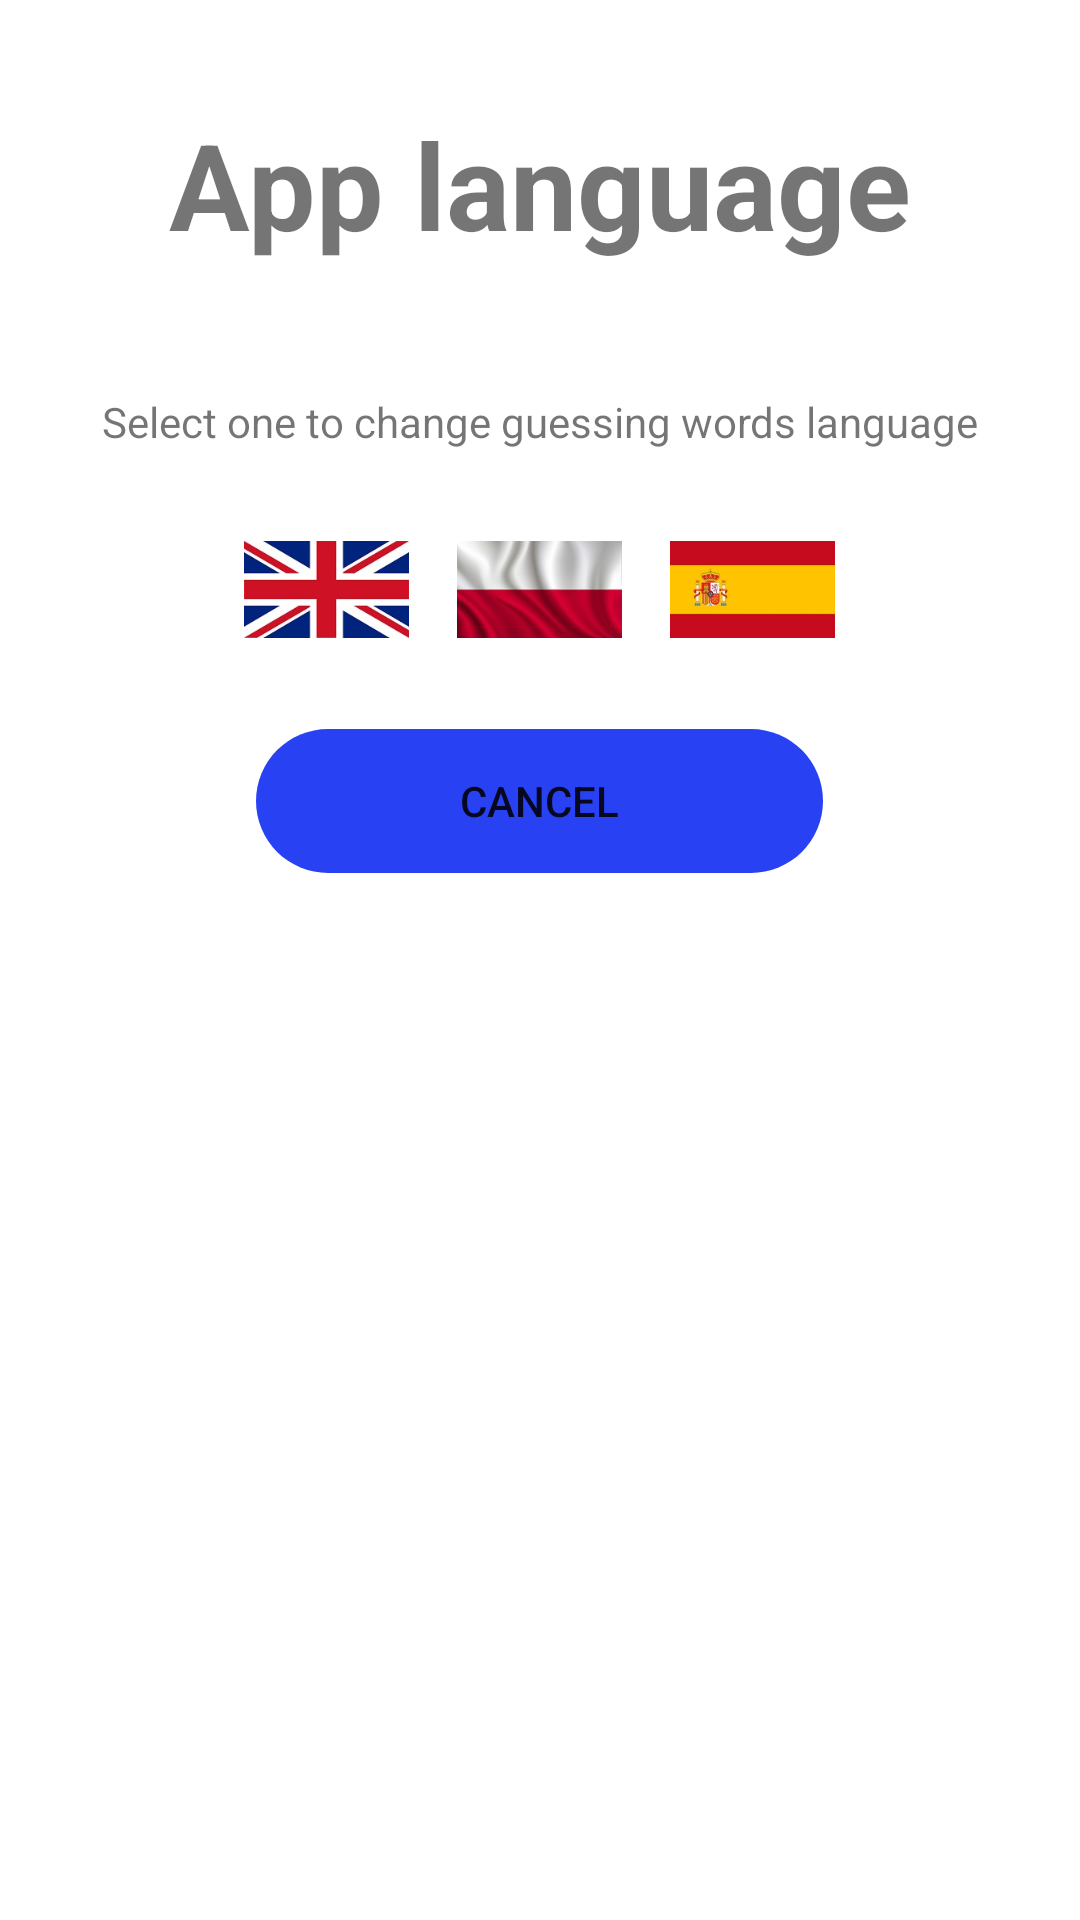

Icon bounding boxes for this 1080x1920 phone screenshot, format bbox=(x1, y1, x2, y2):
Poland flag: bbox=(457, 541, 622, 638)
Spain flag: bbox=(670, 541, 835, 638)
Uk flag: bbox=(244, 541, 409, 638)
